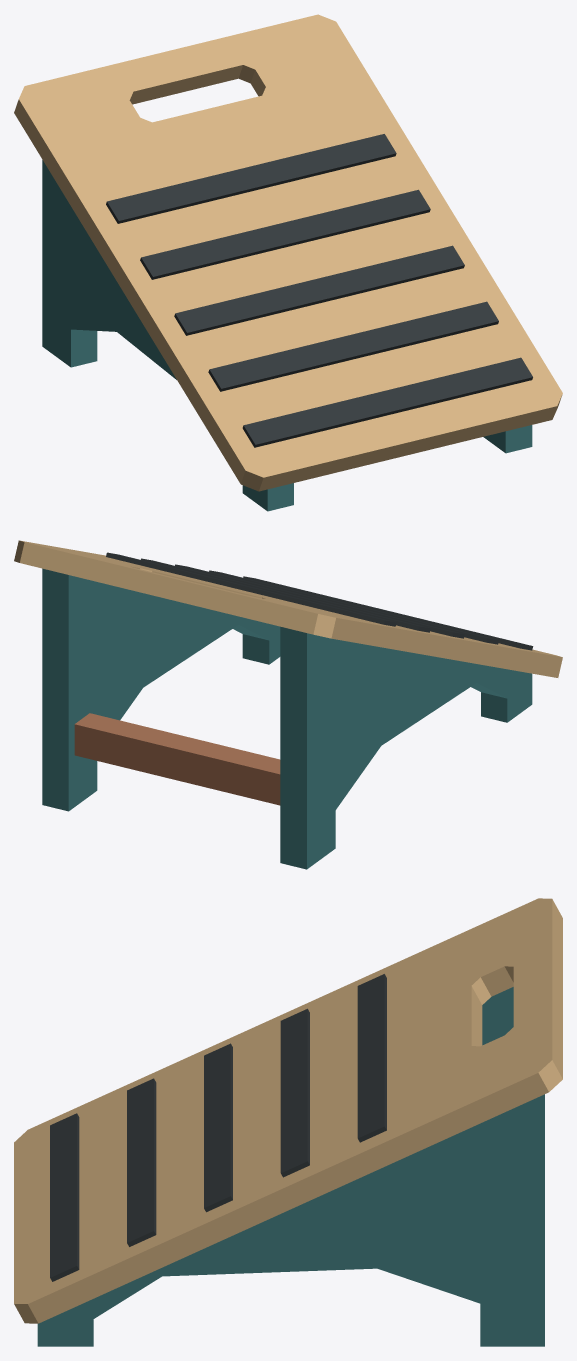
3 views of the same model, one above another, from view 1: azimuth 30°, elevation 25°; view 2: azimuth 150°, elevation 25°; view 3: azimuth 270°, elevation 25° (orthographic). The views are drawn at different scales.
Parts seen in each view (by area): view 1: ThickPiercedInclinedDeck, LeftWholeArchedCheek, RaisedTreadStrip_04, RaisedTreadStrip_05, RaisedTreadStrip_01, RaisedTreadStrip_02, RaisedTreadStrip_03, RightWholeArchedCheek; view 2: LeftWholeArchedCheek, RightWholeArchedCheek, ThickPiercedInclinedDeck, RearTransverseBrace, RaisedTreadStrip_05, RaisedTreadStrip_01, RaisedTreadStrip_02, RaisedTreadStrip_03, RaisedTreadStrip_04; view 3: ThickPiercedInclinedDeck, RightWholeArchedCheek, RaisedTreadStrip_01, RaisedTreadStrip_05, RaisedTreadStrip_04, RaisedTreadStrip_02, RaisedTreadStrip_03, LeftWholeArchedCheek.
Part boxes in pixels (x1,y1,x2,y2): ThickPiercedInclinedDeck: (14,14,562,491); LeftWholeArchedCheek: (42,160,293,511); RaisedTreadStrip_04: (140,189,430,279); RaisedTreadStrip_05: (106,134,396,223); RaisedTreadStrip_01: (242,357,532,447); RaisedTreadStrip_02: (208,301,498,391); RaisedTreadStrip_03: (174,245,464,335); RightWholeArchedCheek: (483,425,532,453); LeftWholeArchedCheek: (280,626,532,869); RightWholeArchedCheek: (42,568,280,811); ThickPiercedInclinedDeck: (14,540,562,677); RearTransverseBrace: (74,713,280,805); RaisedTreadStrip_05: (106,552,396,626); RaisedTreadStrip_01: (243,576,533,650); RaisedTreadStrip_02: (209,570,498,644); RaisedTreadStrip_03: (175,564,464,638); RaisedTreadStrip_04: (141,558,430,632); ThickPiercedInclinedDeck: (14,898,562,1323); RightWholeArchedCheek: (37,1094,544,1346); RaisedTreadStrip_01: (50,1113,79,1281); RaisedTreadStrip_05: (357,974,386,1142); RaisedTreadStrip_04: (280,1008,309,1177); RaisedTreadStrip_02: (127,1078,156,1246); RaisedTreadStrip_03: (204,1043,232,1212); LeftWholeArchedCheek: (482,987,513,1045).
Size of the model in its own units: 0.48 by 0.3781 by 0.6386.
